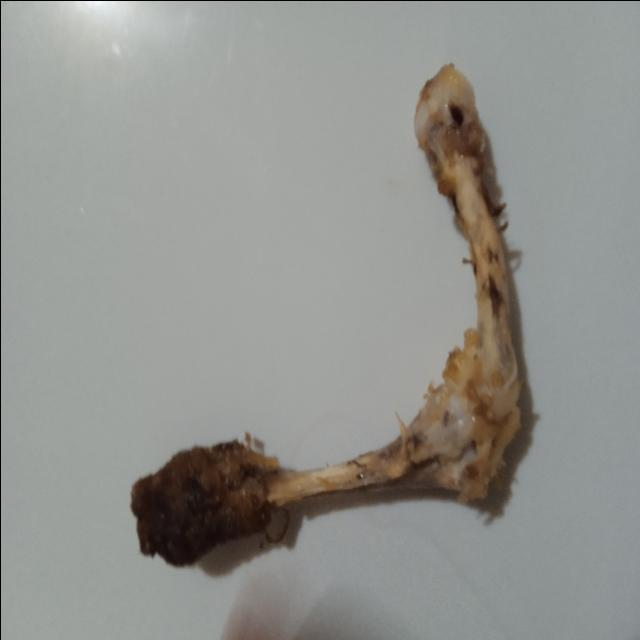bone: (121, 49, 540, 586)
